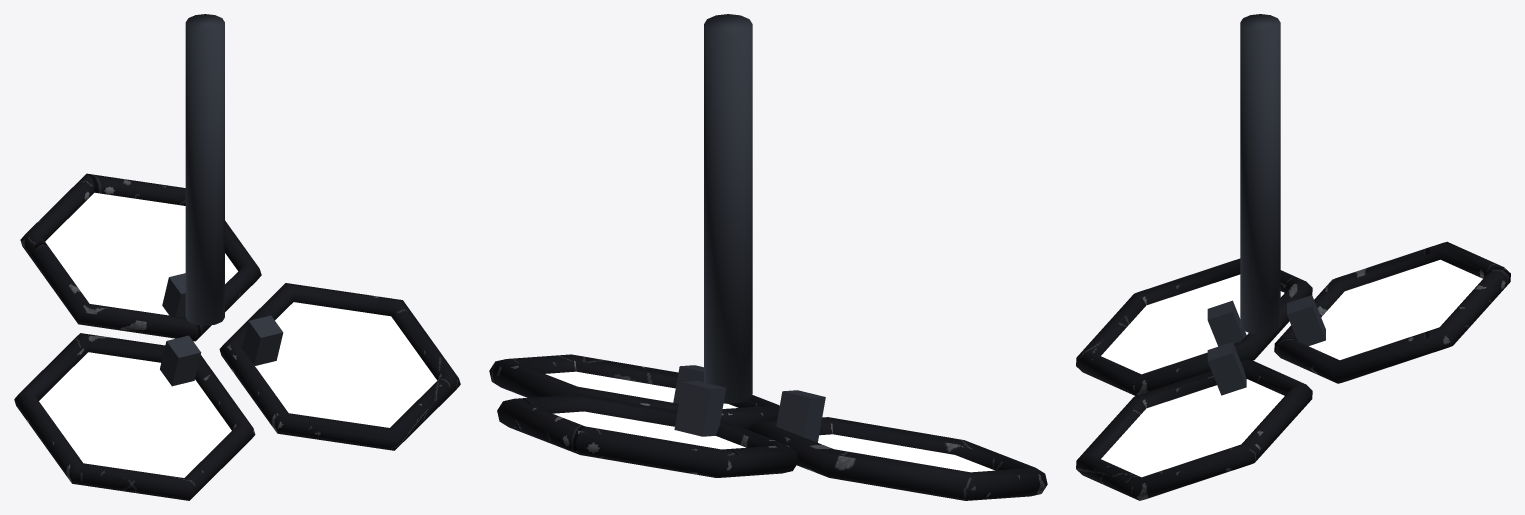
Rendered from Light_HexCluster.001.gltf.
3 views of the same model, side by side, from view 1: azimuth 30°, elevation 25°; view 2: azimuth 150°, elevation 25°; view 3: azimuth 270°, elevation 25° (orthographic). The views are drawn at different scales.
Parts seen in each view (by area): view 1: Light_HexCluster.001; view 2: Light_HexCluster.001; view 3: Light_HexCluster.001.
Boxes of the visible parts, x1,y1,x2,y2 form: Light_HexCluster.001: (14, 14, 460, 500); Light_HexCluster.001: (489, 14, 1047, 500); Light_HexCluster.001: (1076, 14, 1510, 500).
Bounding box in the file's own units: 0.6894 × 0.6612 × 0.6491.
Materials: 3 (1 with a texture image).
